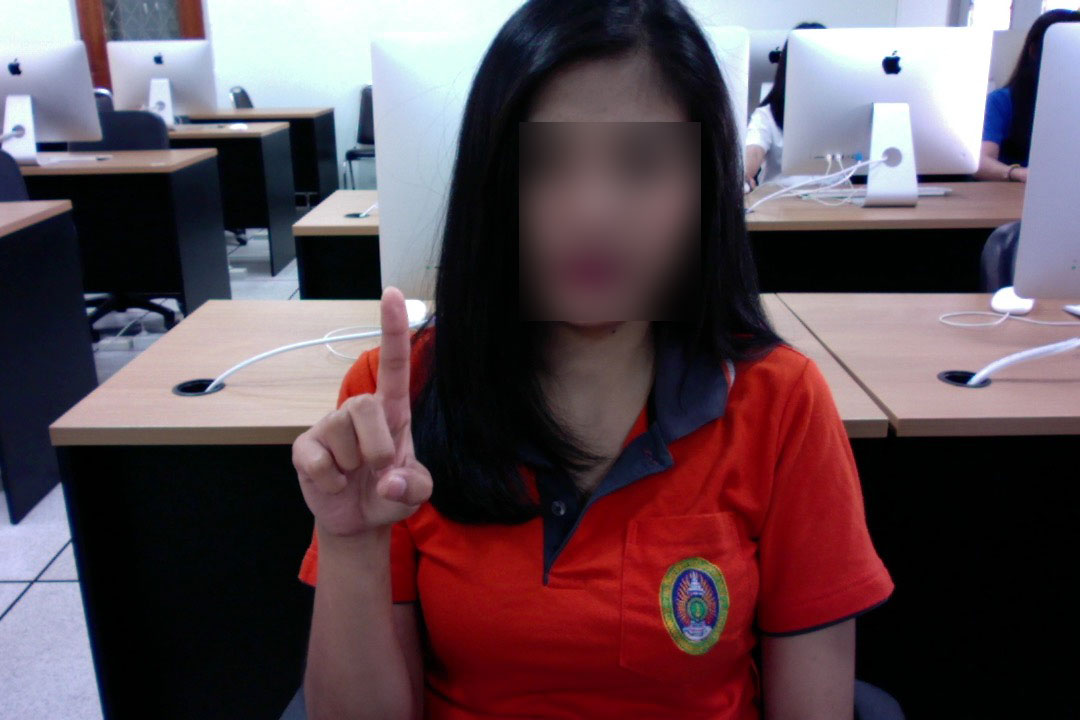dor: (291, 273, 435, 572)
